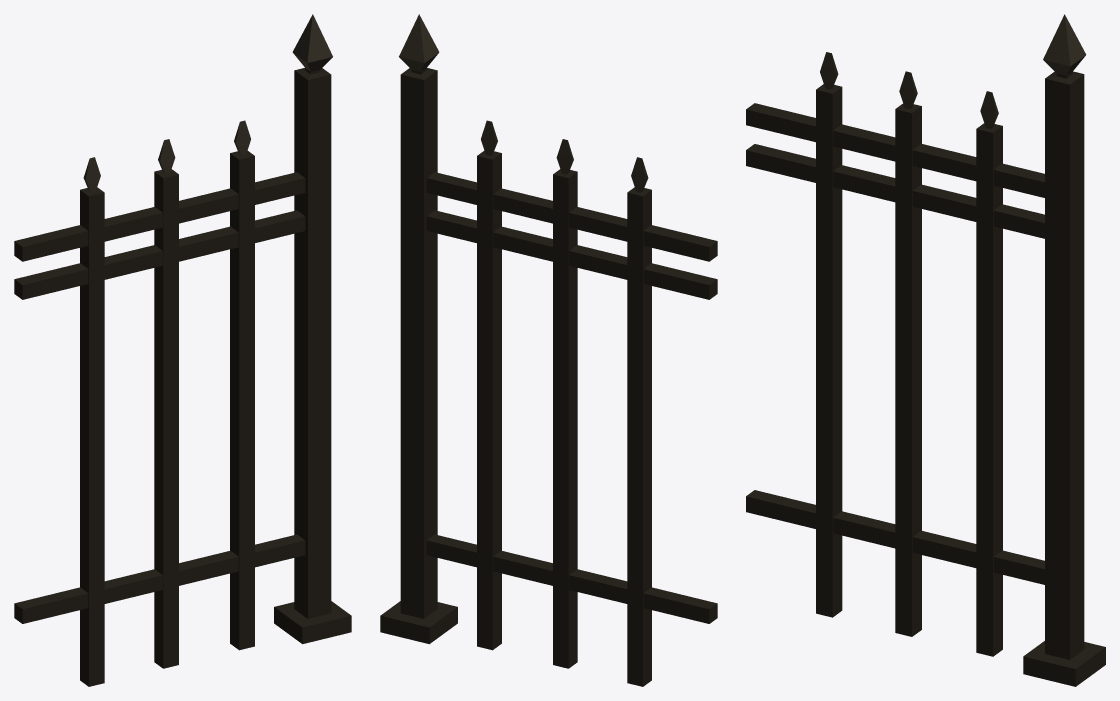
Rendered from BorderLinear_Undead.fbx.
The picture shows the model from 3 angles, left to right: view 1: azimuth 30°, elevation 25°; view 2: azimuth 150°, elevation 25°; view 3: azimuth 330°, elevation 25°; orthographic projection. The views are drawn at different scales.
Parts seen in each view (by area): view 1: bottomnurbsSquare1; view 2: bottomnurbsSquare1; view 3: bottomnurbsSquare1.
Part boxes in pixels (<box>): bottomnurbsSquare1: <box>14,14,351,686</box>; bottomnurbsSquare1: <box>380,14,717,686</box>; bottomnurbsSquare1: <box>746,14,1105,686</box>.
Bounding box in the file's own units: 2.18 × 4.01 × 0.3357.
